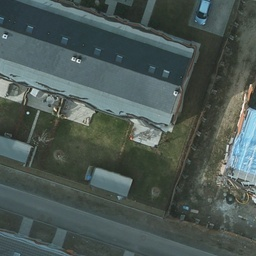car: (193, 0, 213, 28)
